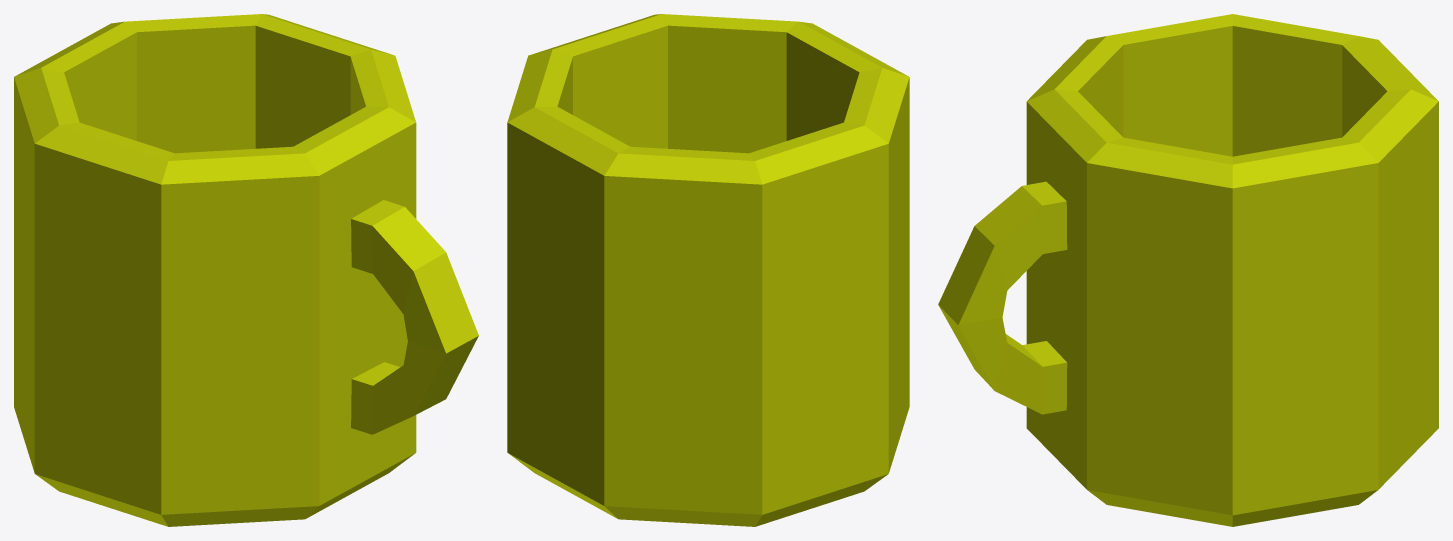
File: Yellow_Mug.fbx
The picture shows the model from 3 angles, left to right: view 1: azimuth 30°, elevation 25°; view 2: azimuth 150°, elevation 25°; view 3: azimuth 270°, elevation 25°; orthographic projection.
Visible parts, largest first — view 1: Yellow_Mug; view 2: Yellow_Mug; view 3: Yellow_Mug.
Part boxes in pixels (x1=…): Yellow_Mug: x1=14, y1=14, x2=478, y2=526; Yellow_Mug: x1=507, y1=14, x2=909, y2=526; Yellow_Mug: x1=938, y1=14, x2=1438, y2=526.
Size of the model in its own units: 54.77 by 53.12 by 66.53.
